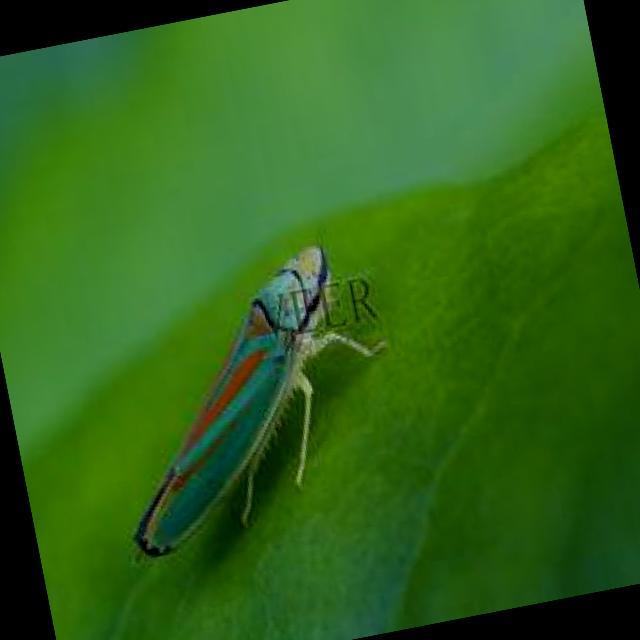green leaf hopper: (135, 247, 383, 556)
